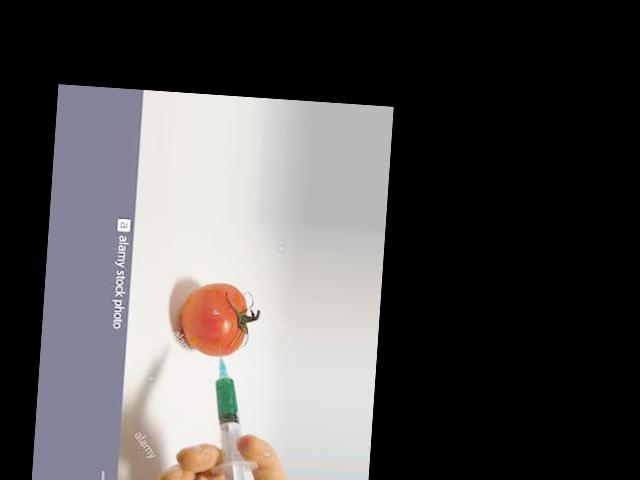tomato: (178, 281, 248, 358)
